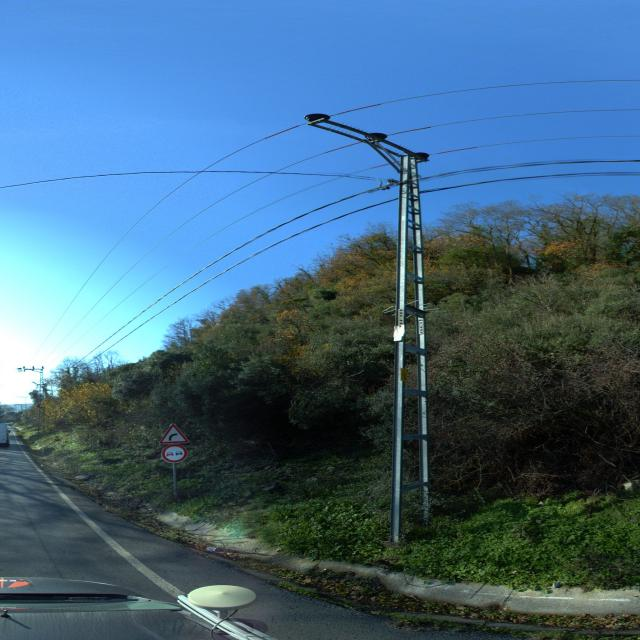Utility Pole Information Plate: (393, 324, 405, 337), (400, 368, 408, 381)
